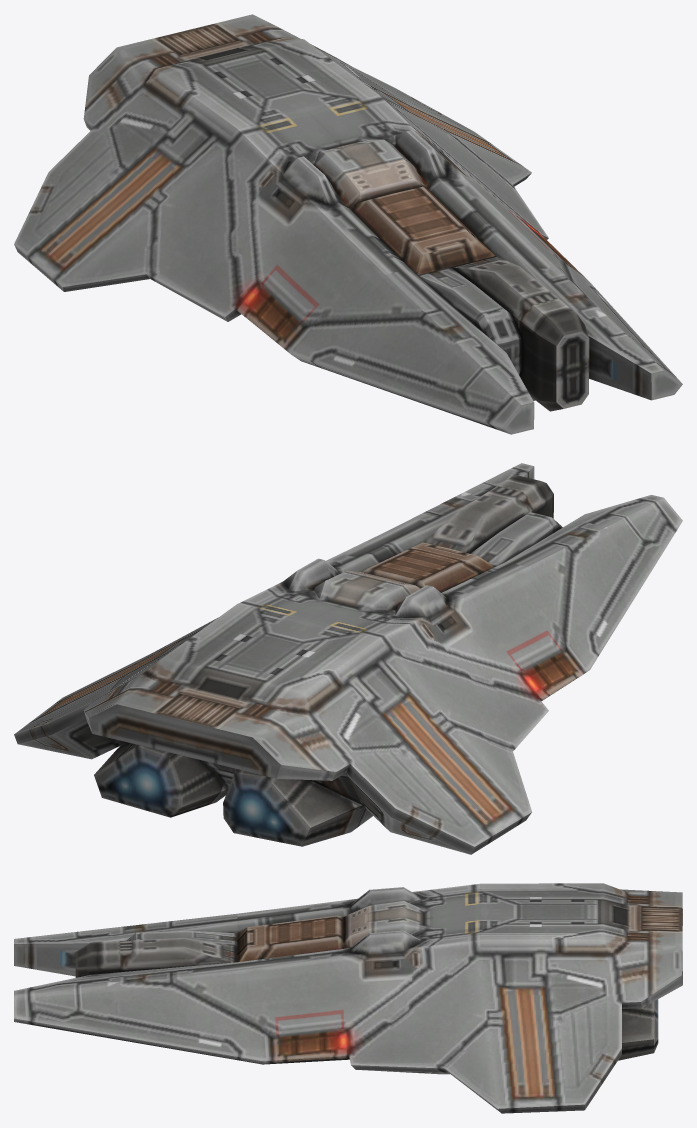
Rendered from hgn_sf_intc_01_t3.glb.
3 views of the same model, one above another, from view 1: azimuth 30°, elevation 25°; view 2: azimuth 150°, elevation 25°; view 3: azimuth 270°, elevation 25° (orthographic). The views are drawn at different scales.
Visible parts, largest first — view 1: hgn_sf_intc_01_t1_LOD0; view 2: hgn_sf_intc_01_t1_LOD0; view 3: hgn_sf_intc_01_t1_LOD0.
Boxes of the visible parts, bbox=[...] form: hgn_sf_intc_01_t1_LOD0: bbox=[14, 14, 682, 434]; hgn_sf_intc_01_t1_LOD0: bbox=[14, 463, 682, 854]; hgn_sf_intc_01_t1_LOD0: bbox=[14, 883, 682, 1113].
Size of what is drawn, in the model's own units: 0.268 by 0.092 by 0.4038.
Materials: 1 (1 with a texture image).
